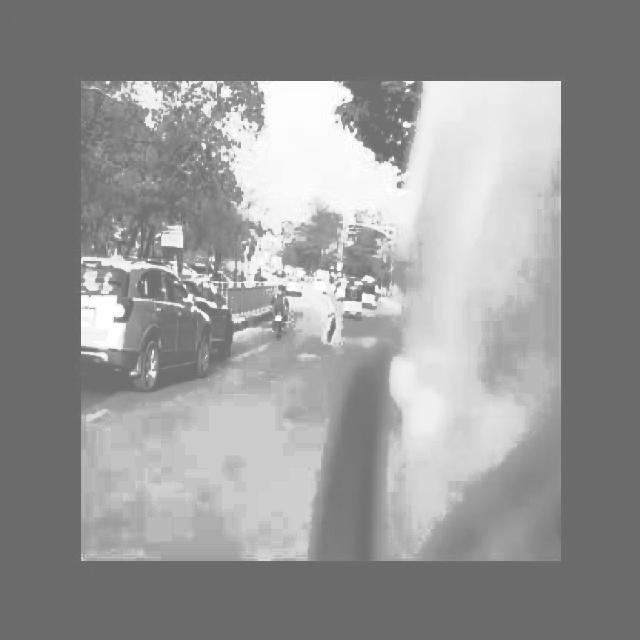Car: (78, 252, 198, 412), (198, 264, 238, 358)
